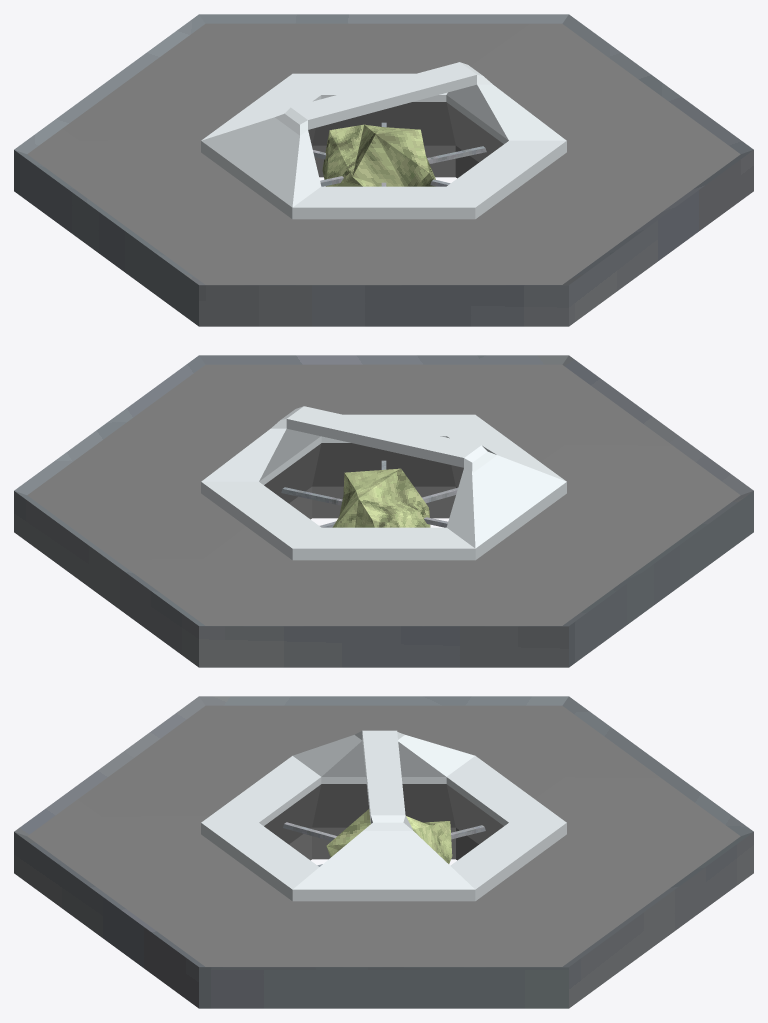
Rendered from item_hoverpad.glb.
3 views of the same model, one above another, from view 1: azimuth 30°, elevation 25°; view 2: azimuth 150°, elevation 25°; view 3: azimuth 270°, elevation 25° (orthographic).
Visible parts, largest first — view 1: Hoverpad_submesh_0, Hoverpad_submesh_1, Hoverpad_submesh_2, UraniumBlob_Med, Cube.001; view 2: Hoverpad_submesh_0, Hoverpad_submesh_1, Hoverpad_submesh_2, UraniumBlob_Med, Cube.001; view 3: Hoverpad_submesh_0, Hoverpad_submesh_1, Hoverpad_submesh_2, UraniumBlob_Med.
Boxes of the visible parts, <box> form: Hoverpad_submesh_0: <box>27,23,740,284</box>; Hoverpad_submesh_1: <box>14,14,753,326</box>; Hoverpad_submesh_2: <box>201,62,566,219</box>; UraniumBlob_Med: <box>322,124,435,186</box>; Cube.001: <box>320,146,486,186</box>; Hoverpad_submesh_0: <box>27,364,740,625</box>; Hoverpad_submesh_1: <box>14,355,753,667</box>; Hoverpad_submesh_2: <box>201,406,566,560</box>; UraniumBlob_Med: <box>332,468,430,527</box>; Cube.001: <box>281,487,447,527</box>; Hoverpad_submesh_0: <box>27,705,740,966</box>; Hoverpad_submesh_1: <box>14,696,753,1008</box>; Hoverpad_submesh_2: <box>201,730,566,901</box>; UraniumBlob_Med: <box>326,809,452,863</box>.
Size of the model in its own units: 0.5388 by 0.1431 by 0.6222.
Materials: 5 (3 with a texture image).
